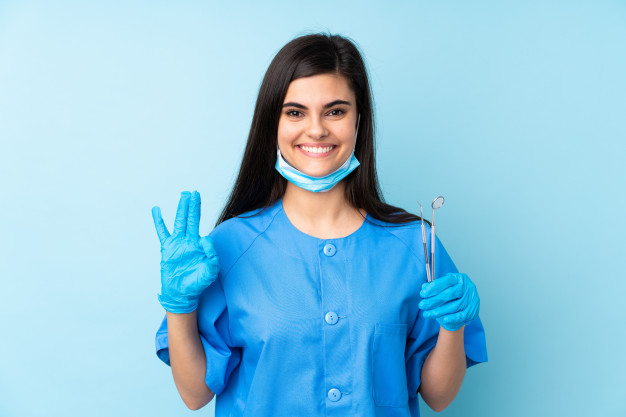mask_weared_incorrect: (266, 71, 368, 196)
